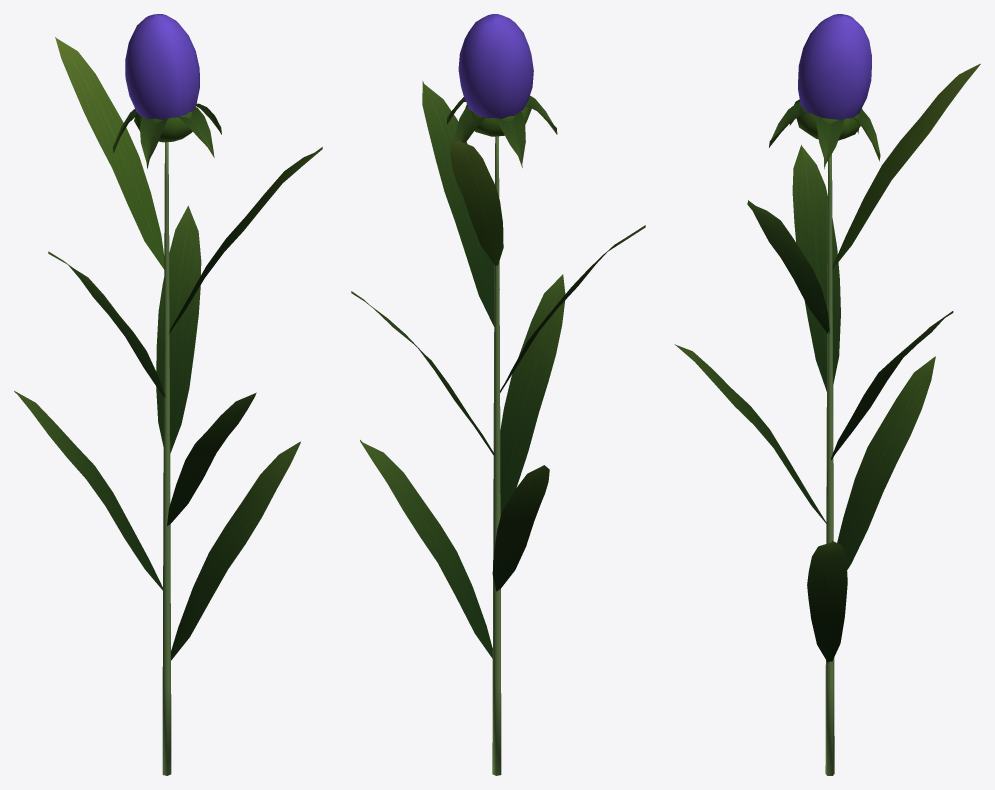
File: iris-08-lod.glb
3 views of the same model, side by side, from view 1: azimuth 30°, elevation 25°; view 2: azimuth 150°, elevation 25°; view 3: azimuth 270°, elevation 25° (orthographic).
Visible parts, largest first — view 1: iris_stage_08_leaf_veins.015, iris_stage_08_young_leaf.015, iris_stage_08_iris_petal.015, iris_stage_08_stem_fibres.015; view 2: iris_stage_08_leaf_veins.015, iris_stage_08_iris_petal.015, iris_stage_08_young_leaf.015, iris_stage_08_stem_fibres.015; view 3: iris_stage_08_leaf_veins.015, iris_stage_08_iris_petal.015, iris_stage_08_young_leaf.015, iris_stage_08_stem_fibres.015.
Boxes of the visible parts, x1,y1,x2,y2 form: iris_stage_08_leaf_veins.015: (14,103,322,660); iris_stage_08_young_leaf.015: (55,37,195,269); iris_stage_08_iris_petal.015: (125,14,199,119); iris_stage_08_stem_fibres.015: (162,142,171,775); iris_stage_08_leaf_veins.015: (351,81,645,658); iris_stage_08_iris_petal.015: (458,14,533,118); iris_stage_08_young_leaf.015: (450,102,531,265); iris_stage_08_stem_fibres.015: (492,136,501,775); iris_stage_08_leaf_veins.015: (674,99,953,662); iris_stage_08_iris_petal.015: (798,14,871,119); iris_stage_08_young_leaf.015: (796,63,980,269); iris_stage_08_stem_fibres.015: (825,154,834,775).
Bounding box in the file's own units: 0.2578 × 0.6942 × 0.2547.
Materials: 4 (3 with a texture image).
